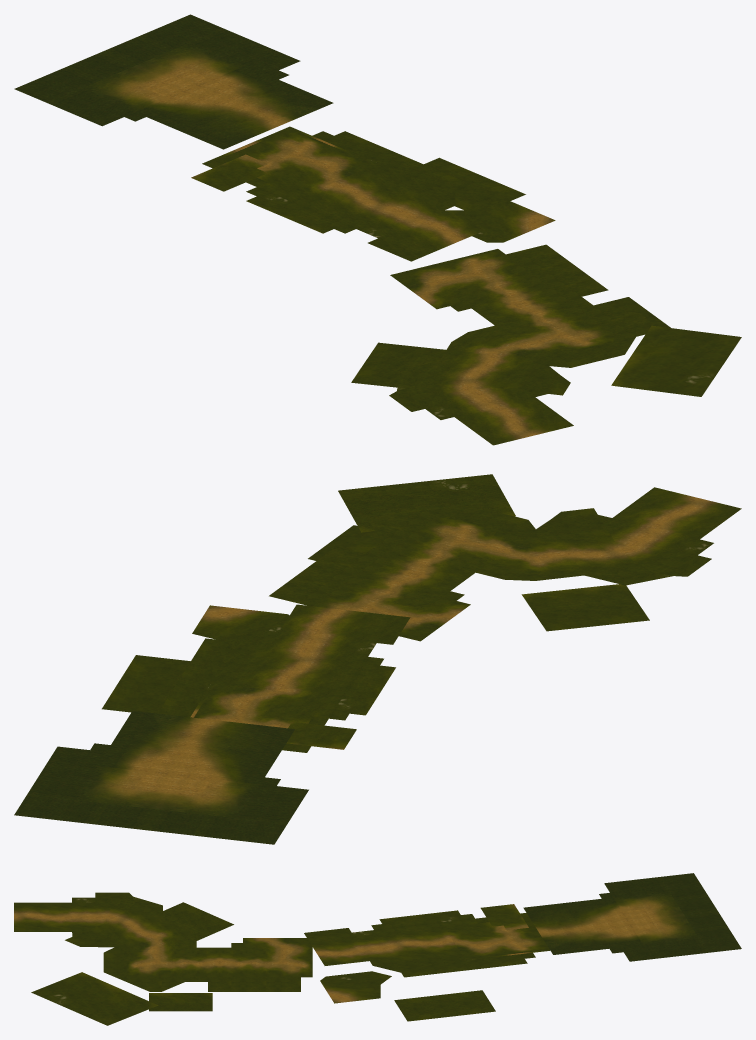
The model's file is lumina_dixing_1F.FBX.
3 renders of one model, top to bottom at view 1: azimuth 30°, elevation 25°; view 2: azimuth 150°, elevation 25°; view 3: azimuth 270°, elevation 25°, orthographic. The views are drawn at different scales.
Visible parts, largest first — view 1: lumina_dixing_1F, lumina_dixing_1F_b; view 2: lumina_dixing_1F, lumina_dixing_1F_b; view 3: lumina_dixing_1F, lumina_dixing_1F_b.
Part boxes in pixels (<box>): lumina_dixing_1F: <box>14,14,647,445</box>; lumina_dixing_1F_b: <box>351,157,741,396</box>; lumina_dixing_1F: <box>14,487,741,844</box>; lumina_dixing_1F_b: <box>102,474,649,713</box>; lumina_dixing_1F: <box>14,873,741,991</box>; lumina_dixing_1F_b: <box>31,902,495,1025</box>.
Size of the model in its own units: 50.34 by 6.08 by 125.
